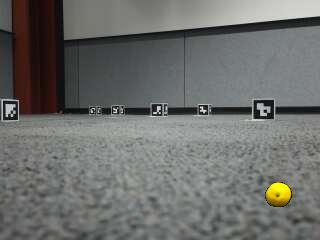lemon: (266, 184, 290, 207)
